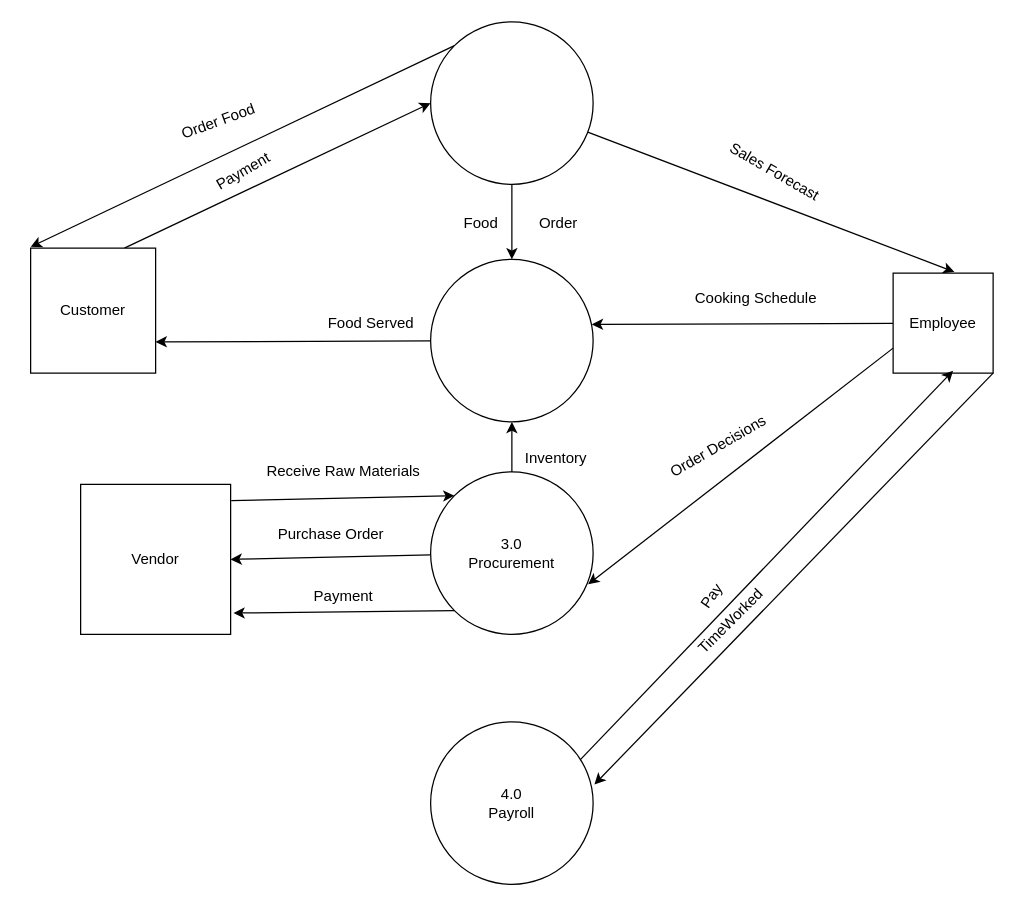
Some shapes in this 1025 by 906 pixel diagram are drawn without their labels. Each missing label, with the centre of its shape:
1.0 Sale: (511,102)
2.0 Production: (511,340)
